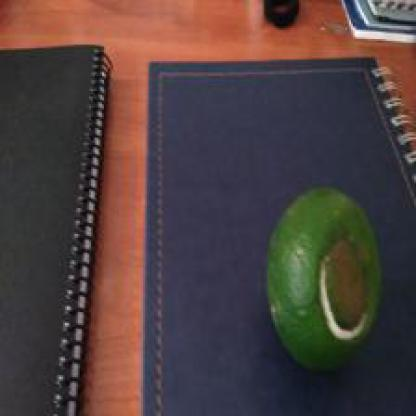orange_rotten: (221, 164, 407, 388)
